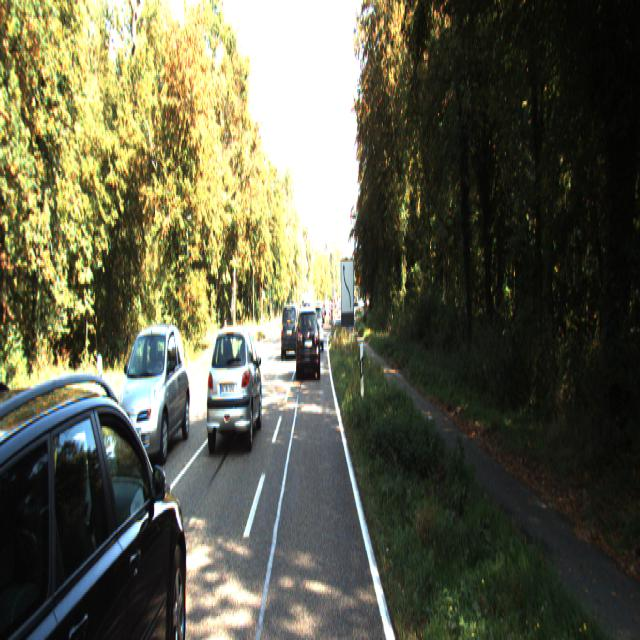Car: (0, 346, 193, 638), (115, 321, 191, 468), (205, 318, 262, 452), (296, 305, 320, 378), (280, 300, 299, 355), (310, 302, 324, 347)
